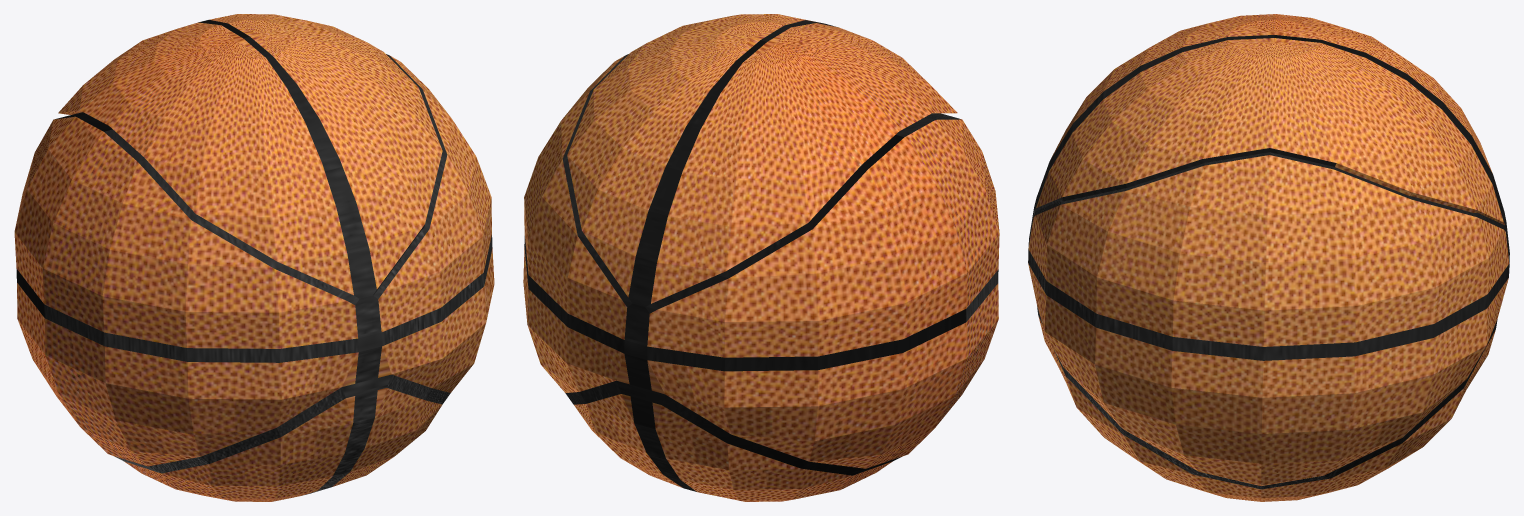
The model's file is bballrollinganimation.glb.
3 views of the same model, side by side, from view 1: azimuth 30°, elevation 25°; view 2: azimuth 150°, elevation 25°; view 3: azimuth 270°, elevation 25° (orthographic).
Visible parts, largest first — view 1: ball; view 2: ball; view 3: ball.
Boxes of the visible parts, bbox=[...] form: ball: bbox=[14, 14, 494, 501]; ball: bbox=[523, 14, 999, 501]; ball: bbox=[1028, 14, 1509, 501].
Size of the model in its own units: 1.97 by 1.98 by 1.97.
Materials: 2 (2 with a texture image).
